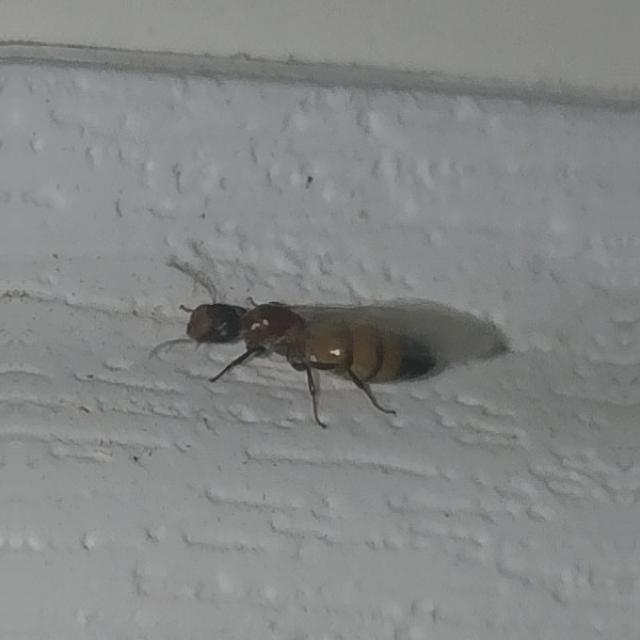Colobopsis: (158, 276, 448, 418)
